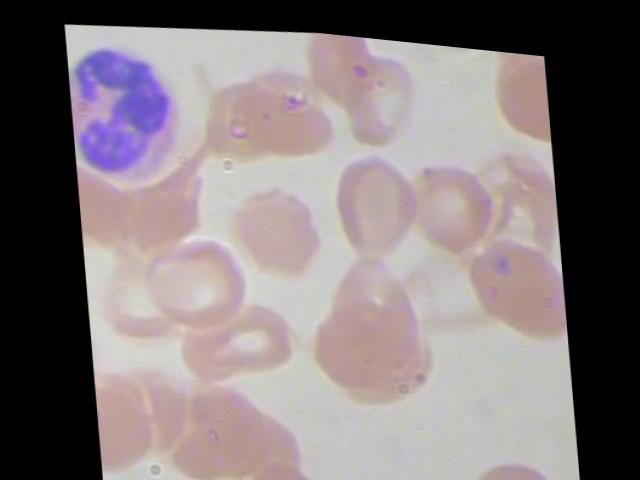Red Blood Cells: (304, 277, 423, 403), (175, 283, 307, 395), (142, 218, 252, 341), (325, 137, 429, 264), (465, 215, 566, 341), (404, 137, 503, 260), (228, 169, 329, 286), (340, 31, 423, 148), (305, 25, 387, 117), (464, 441, 567, 479), (233, 442, 332, 479)
White Blood Cells: (66, 27, 187, 192)
